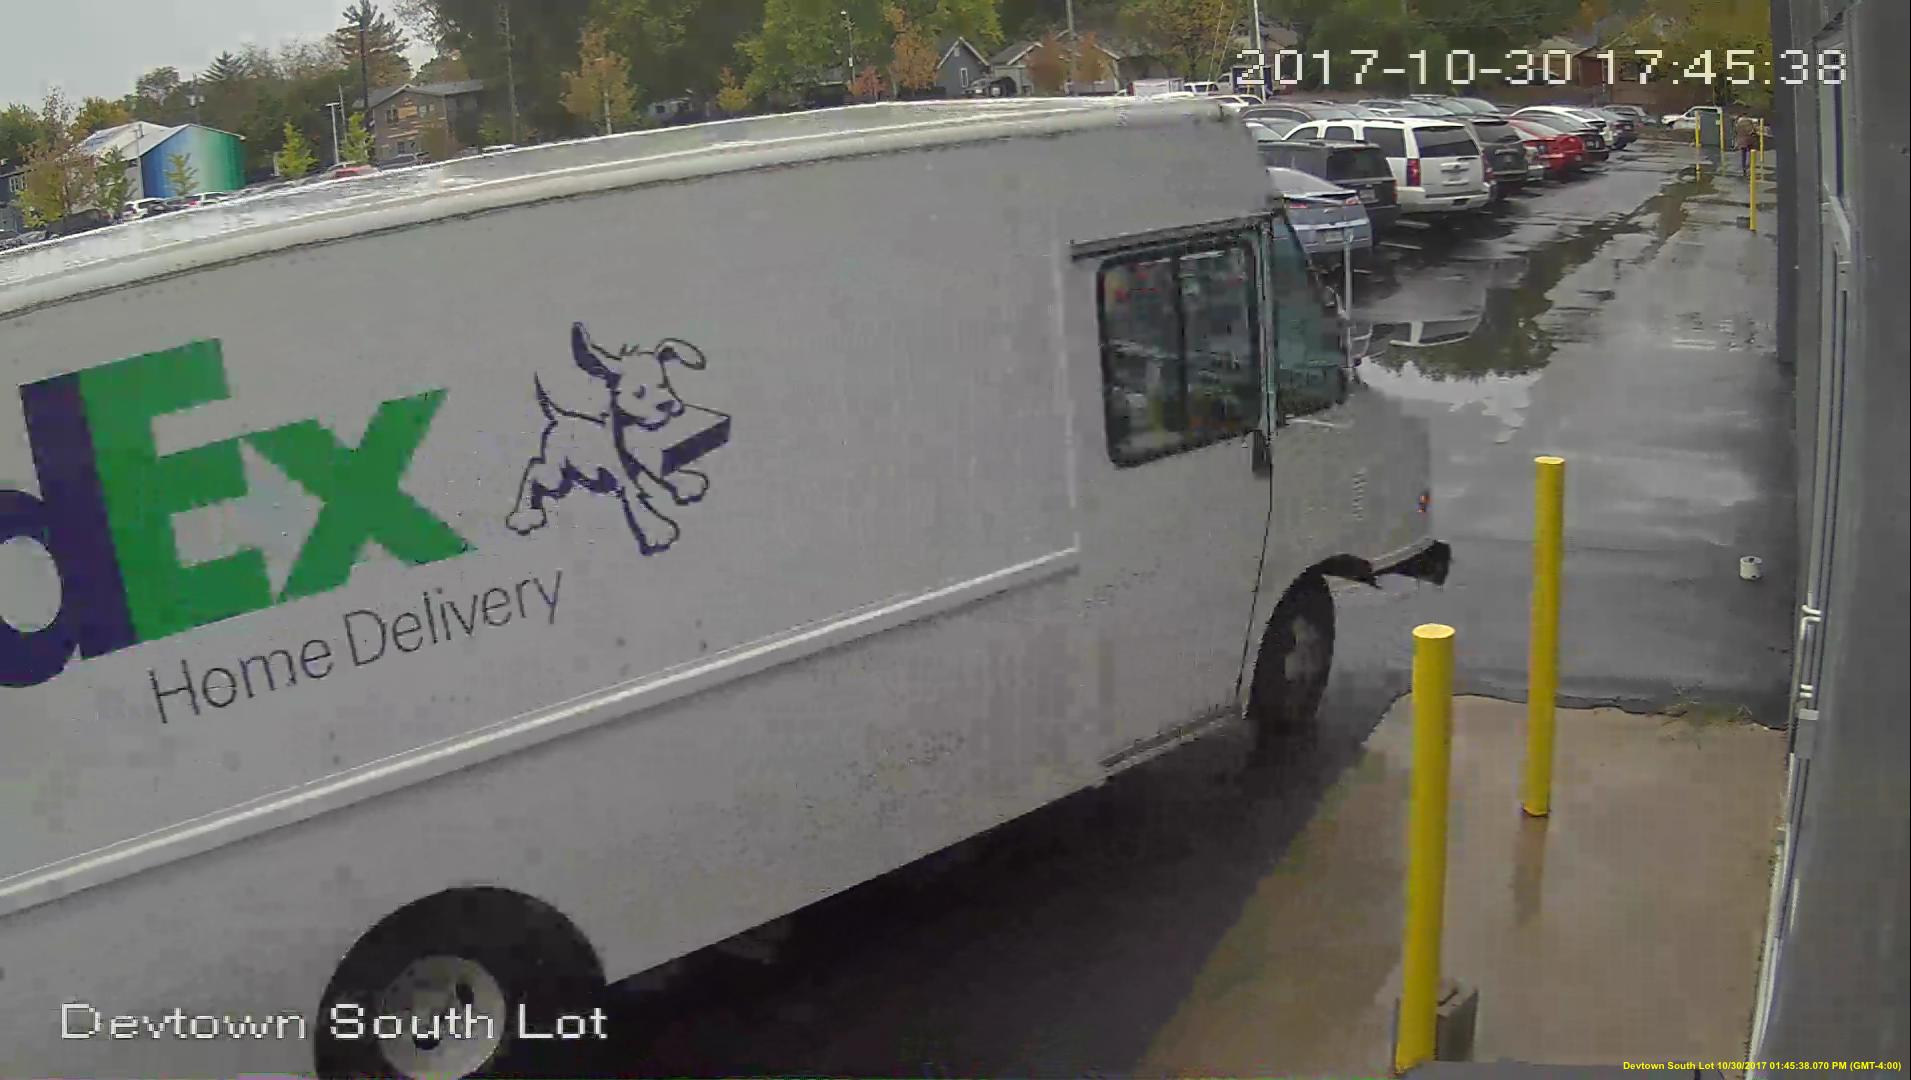fedex_truck: (4, 102, 1452, 1079)
